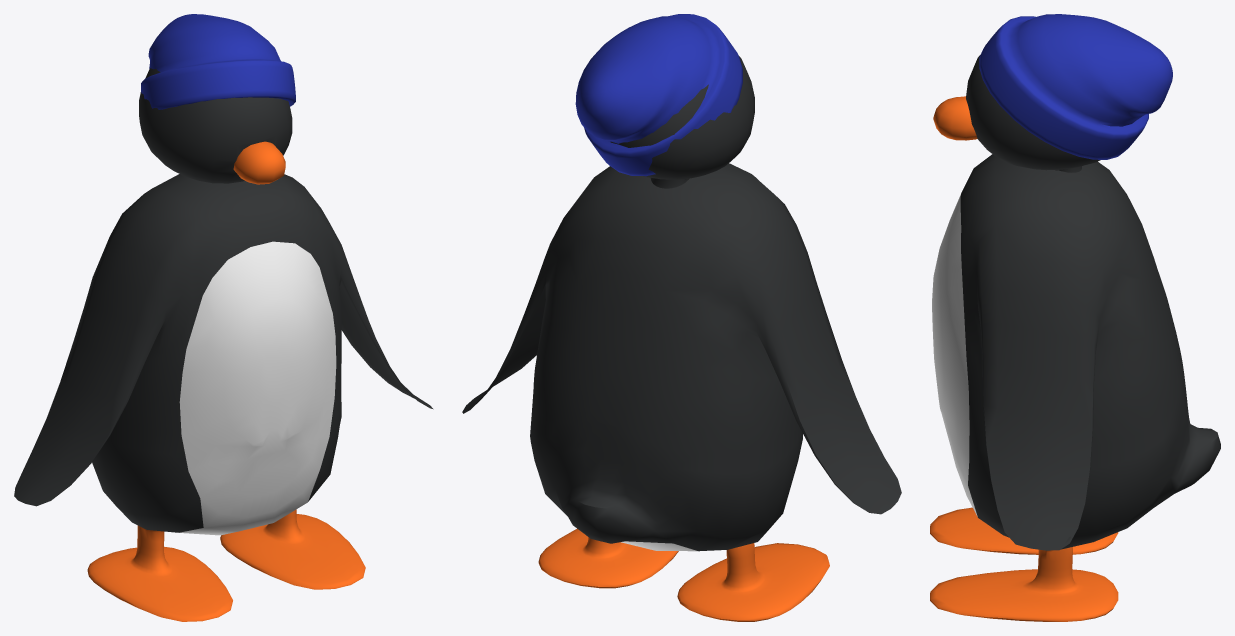
File: PINGU.fbx
3 renders of one model, left to right at view 1: azimuth 30°, elevation 25°; view 2: azimuth 150°, elevation 25°; view 3: azimuth 270°, elevation 25°, orthographic. The views are drawn at different scales.
Parts seen in each view (by area): view 1: polymsh5, cylinder1; view 2: polymsh5, cylinder1; view 3: polymsh5, cylinder1.
Part boxes in pixels (x1,y1,x2,y2): polymsh5: (14,68,433,621); cylinder1: (141,14,295,109); polymsh5: (462,56,901,621); cylinder1: (575,14,742,176); polymsh5: (930,55,1220,621); cylinder1: (979,14,1172,159).
Size of the model in its own units: 25.04 by 31.37 by 15.
